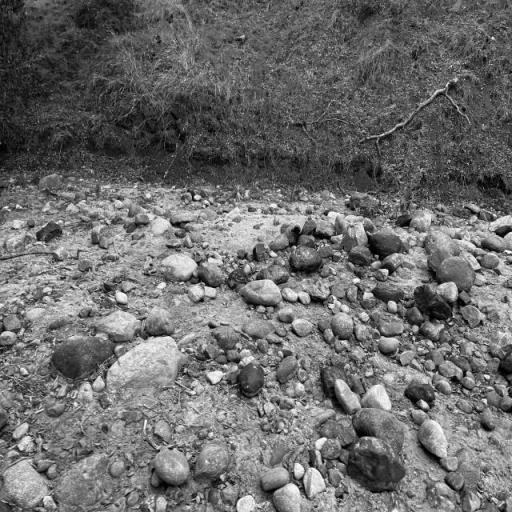bottle: (291, 216, 305, 234)
